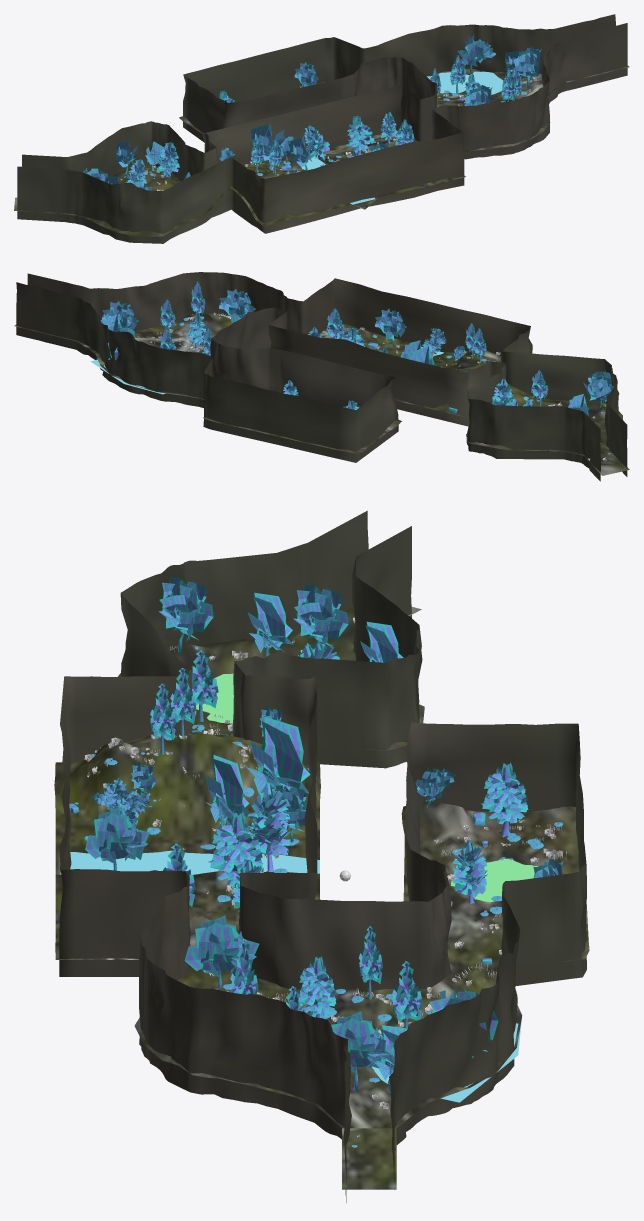
File: forest.fbx
3 views of the same model, one above another, from view 1: azimuth 30°, elevation 25°; view 2: azimuth 150°, elevation 25°; view 3: azimuth 270°, elevation 25° (orthographic). The views are drawn at different scales.
Parts seen in each view (by area): view 1: tree-stylized-03-autumn-yellow_tree-branches-autumn-yellow-; view 2: tree-stylized-03-autumn-yellow_tree-branches-autumn-yellow-; view 3: tree-stylized-03-autumn-yellow_tree-branches-autumn-yellow-.
Boxes of the visible parts, x1,y1,x2,y2 form: tree-stylized-03-autumn-yellow_tree-branches-autumn-yellow-: (14,14,629,243); tree-stylized-03-autumn-yellow_tree-branches-autumn-yellow-: (14,272,629,481); tree-stylized-03-autumn-yellow_tree-branches-autumn-yellow-: (54,510,589,1202).
Size of the model in its own units: 24999 by 2787 by 9511.
24 materials, 16 textured.
